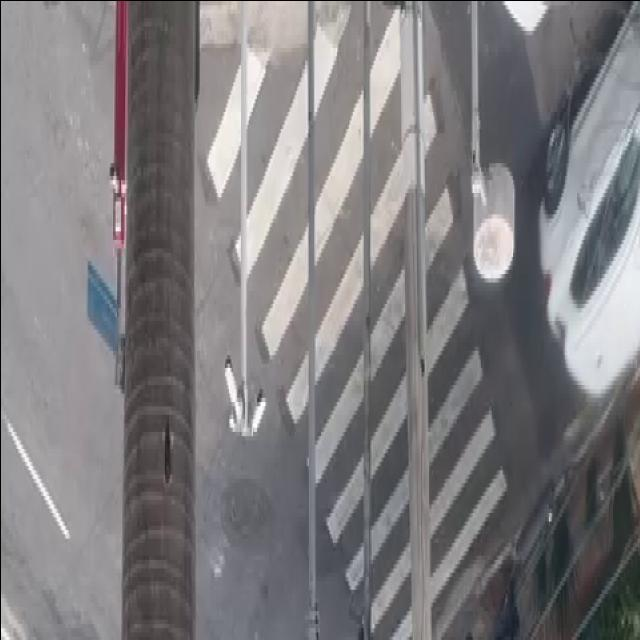car: (547, 39, 640, 406)
